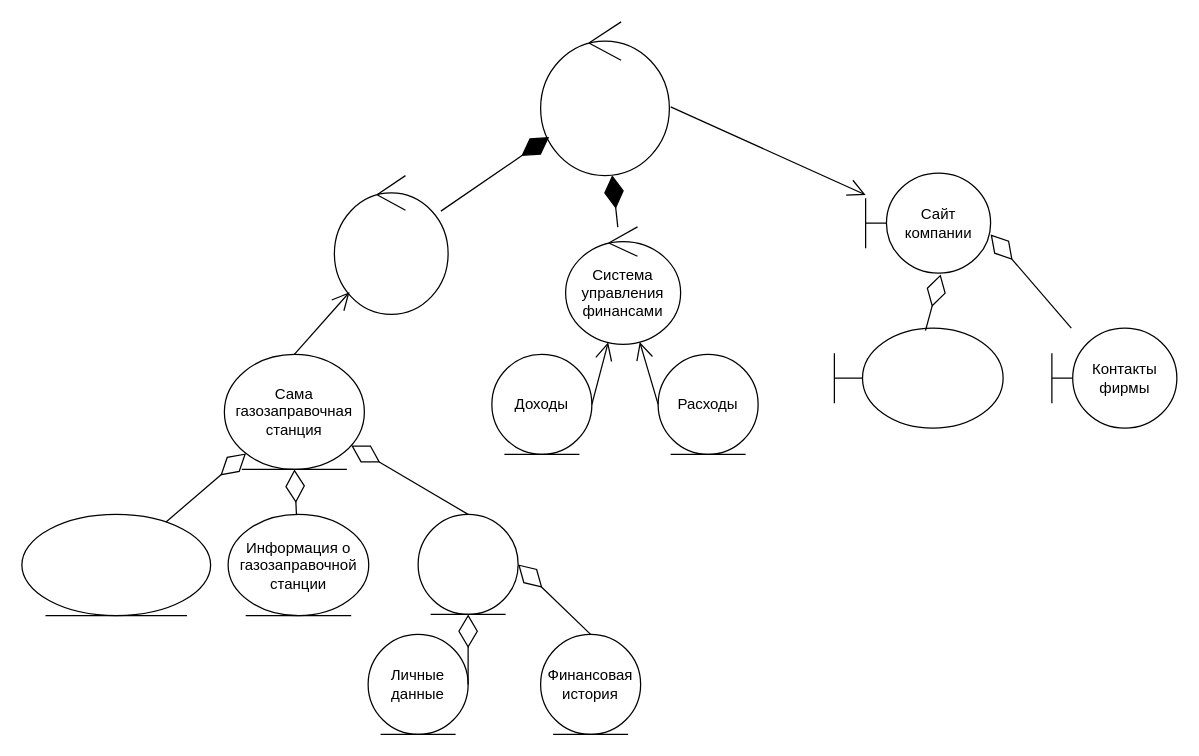
This 1199x756 diagram has some shape labels left out. Each missing label, with the centre of its shape:
Доступные сервисы для газозаправочной станции: [918,377]
Расписание работы внутри газозаправочной станции: [116,564]
Система работы заправки: [390,244]
Система управления газозаправочной станцией: [604,98]
Участники: [467,563]
